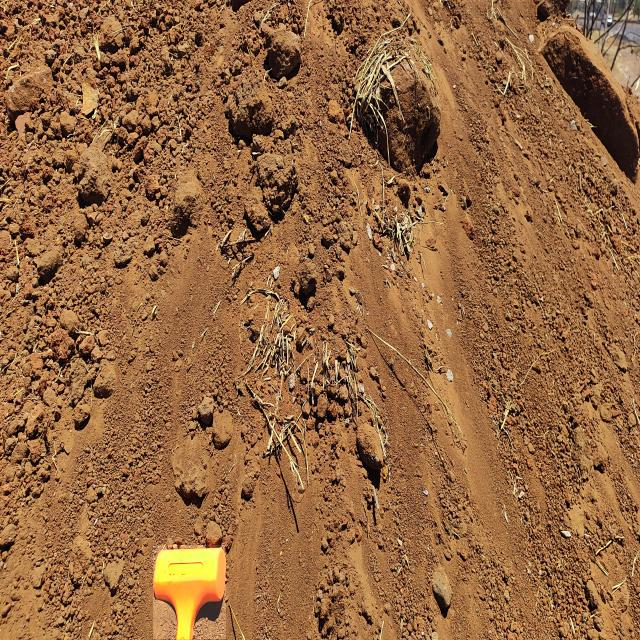Orange_hammer: (153, 545, 226, 639)
